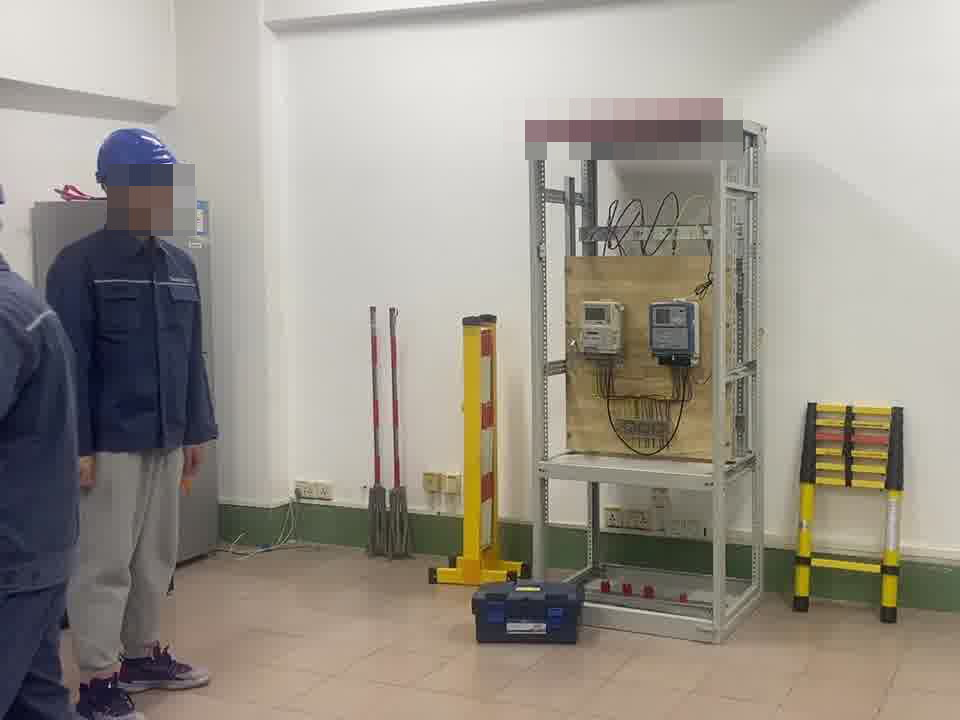downcloth: (73, 462, 188, 653)
downsuit: (1, 598, 70, 719)
halt: (94, 126, 185, 232)
hand: (184, 442, 208, 474)
inear: (101, 173, 134, 214)
person: (39, 122, 224, 718), (1, 83, 84, 719)
upsuit: (40, 216, 223, 445), (1, 238, 88, 589)
